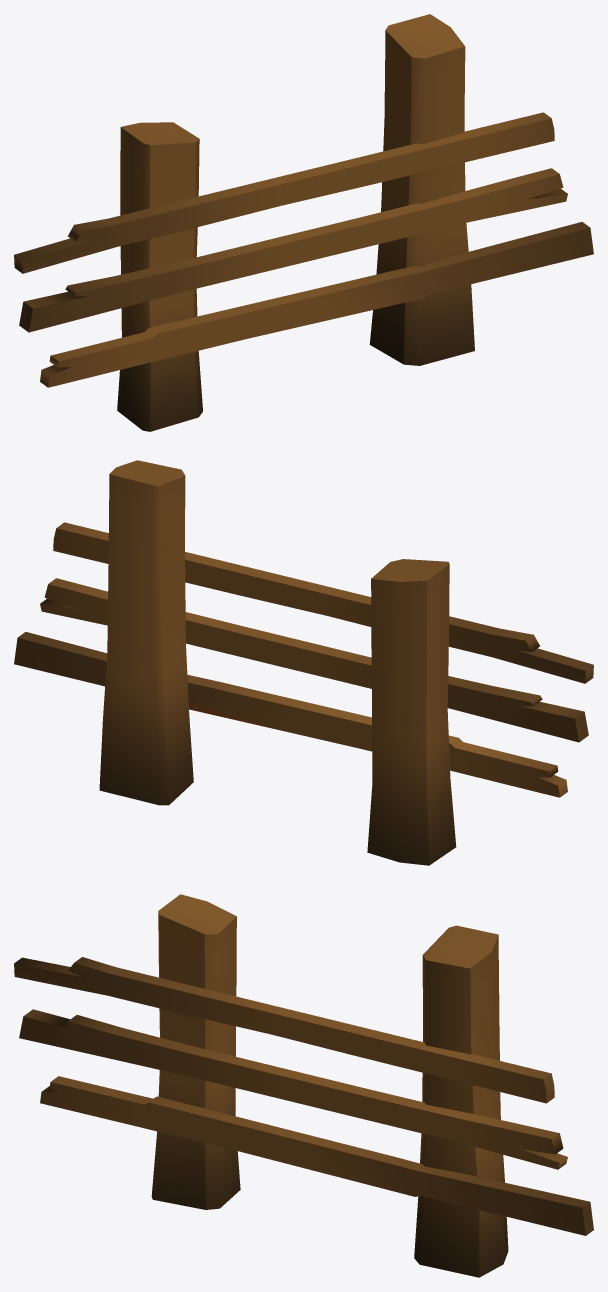
File: RoadFenceWood_Sml-01.FBX
3 renders of one model, top to bottom at view 1: azimuth 30°, elevation 25°; view 2: azimuth 150°, elevation 25°; view 3: azimuth 330°, elevation 25°, orthographic.
Visible parts, largest first — view 1: RoadFenceWood_Sml-01; view 2: RoadFenceWood_Sml-01; view 3: RoadFenceWood_Sml-01.
Part boxes in pixels (x1,y1,x2,y2): RoadFenceWood_Sml-01: [14, 14, 593, 431]; RoadFenceWood_Sml-01: [14, 460, 593, 865]; RoadFenceWood_Sml-01: [14, 894, 593, 1277].
Size of the model in its own units: 265 by 141 by 33.67.
1 material, 1 textured.
